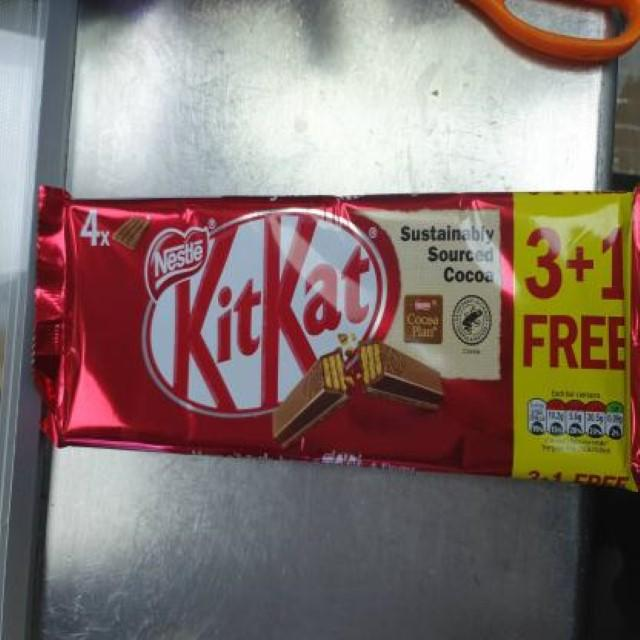kitkat_chocolate: (50, 198, 640, 477)
